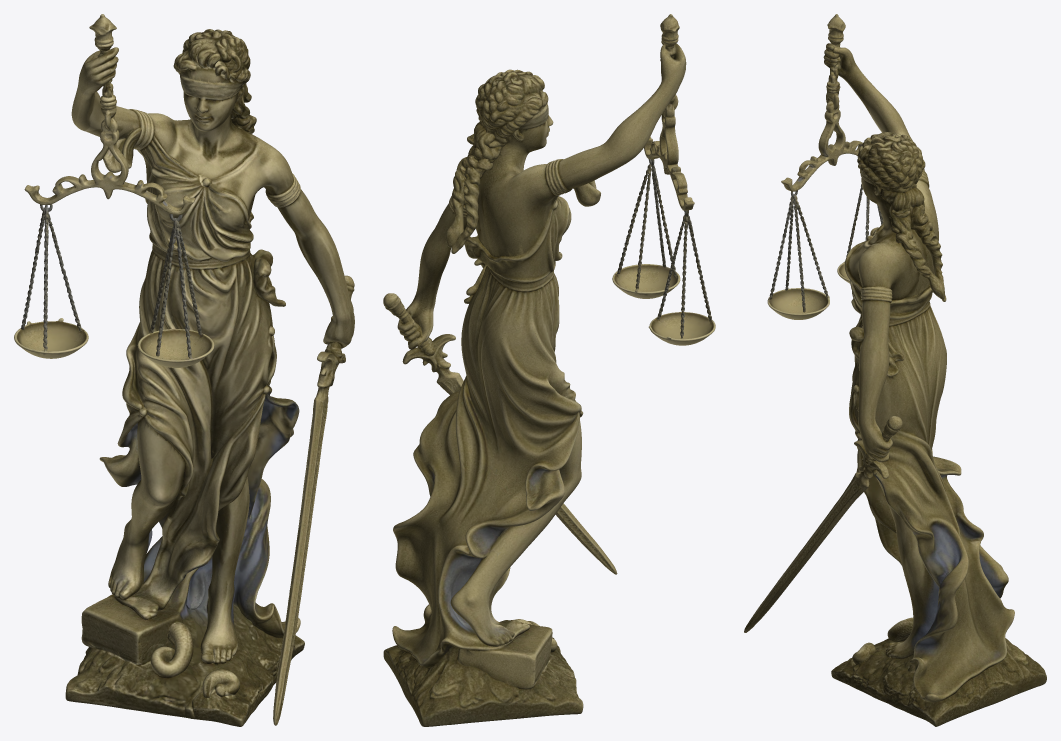
Rendered from justice.glb.
3 views of the same model, side by side, from view 1: azimuth 30°, elevation 25°; view 2: azimuth 150°, elevation 25°; view 3: azimuth 270°, elevation 25° (orthographic). The views are drawn at different scales.
Bounding box in the file's own units: 0.9304 × 1.89 × 0.8502.
Materials: 1 (1 with a texture image).
